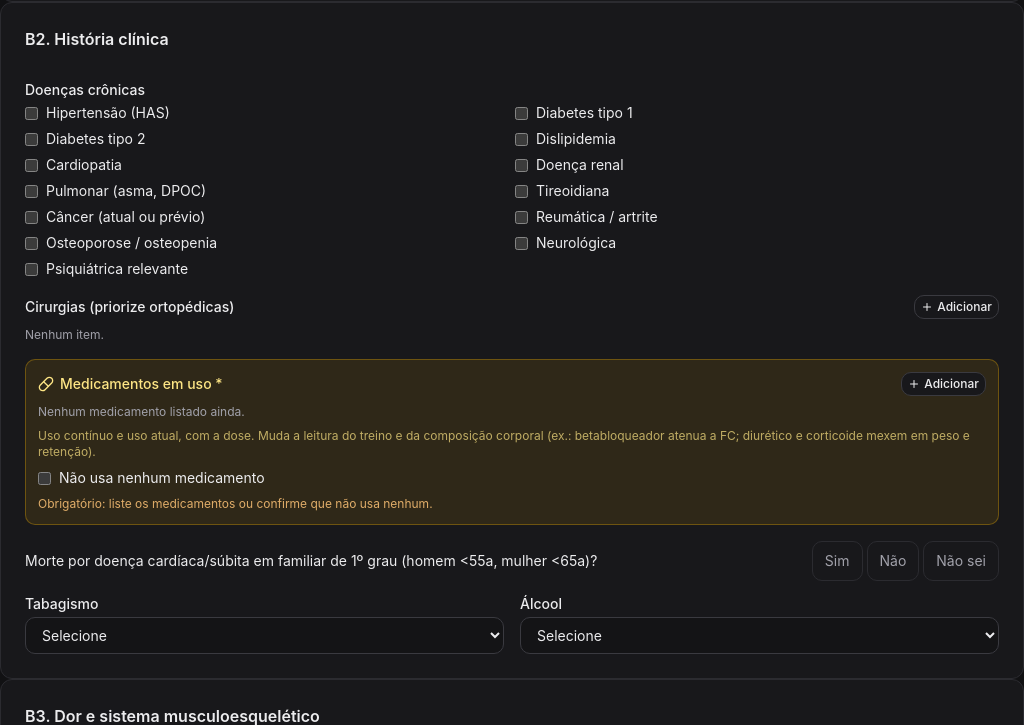
Test: medicamentos em uso — pergunta obrigatória › remover o último medicamento volta a cobrar a resposta
(page scrolled)
Click the button "Adicionar" in the row of "Medicamentos em uso *". click: [944, 384]
box: [901,372,986,396]
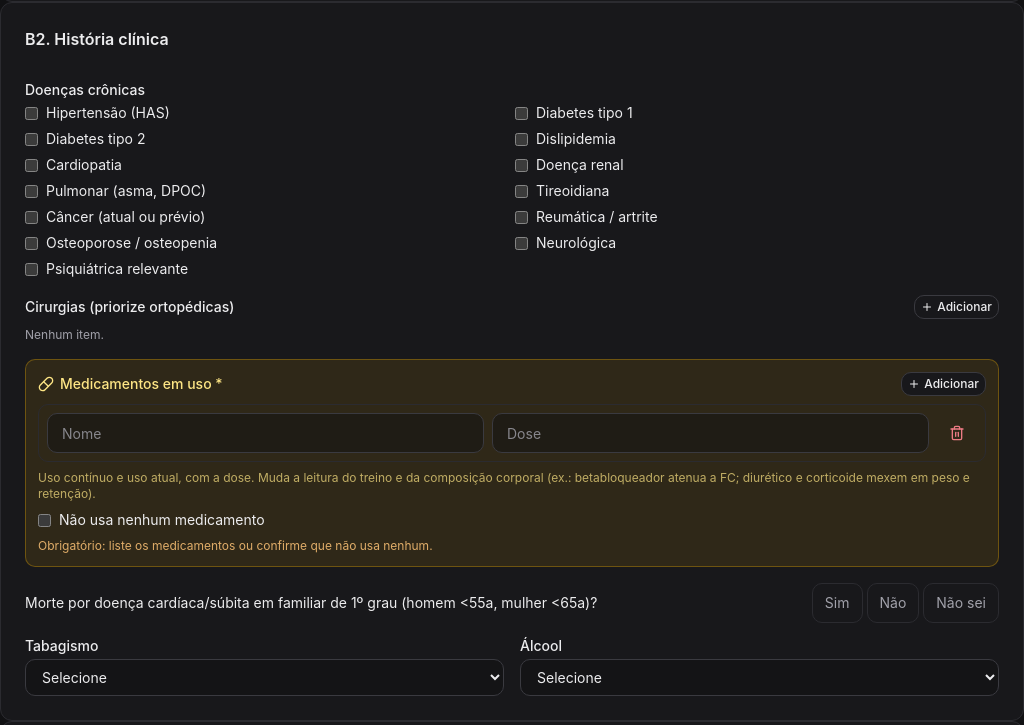
Type "losartana" into the field named "Medicamento 1: nome". click: [266, 433]
box: [47,413,484,453]
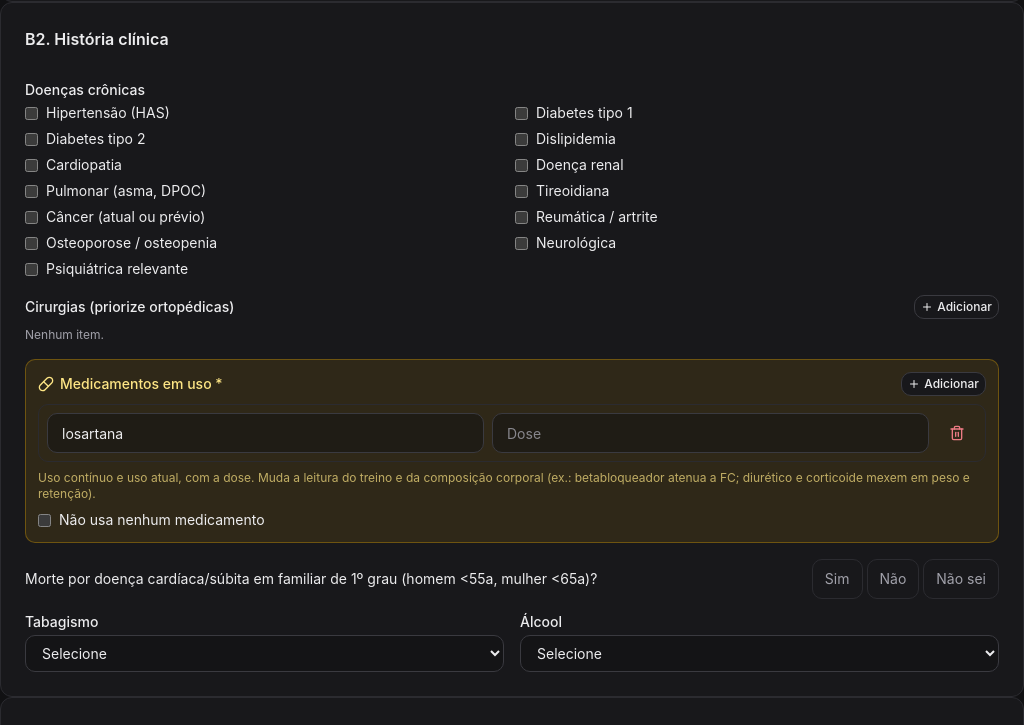
Click the button named "Remover item 1". click: [957, 433]
box: [937,413,977,453]
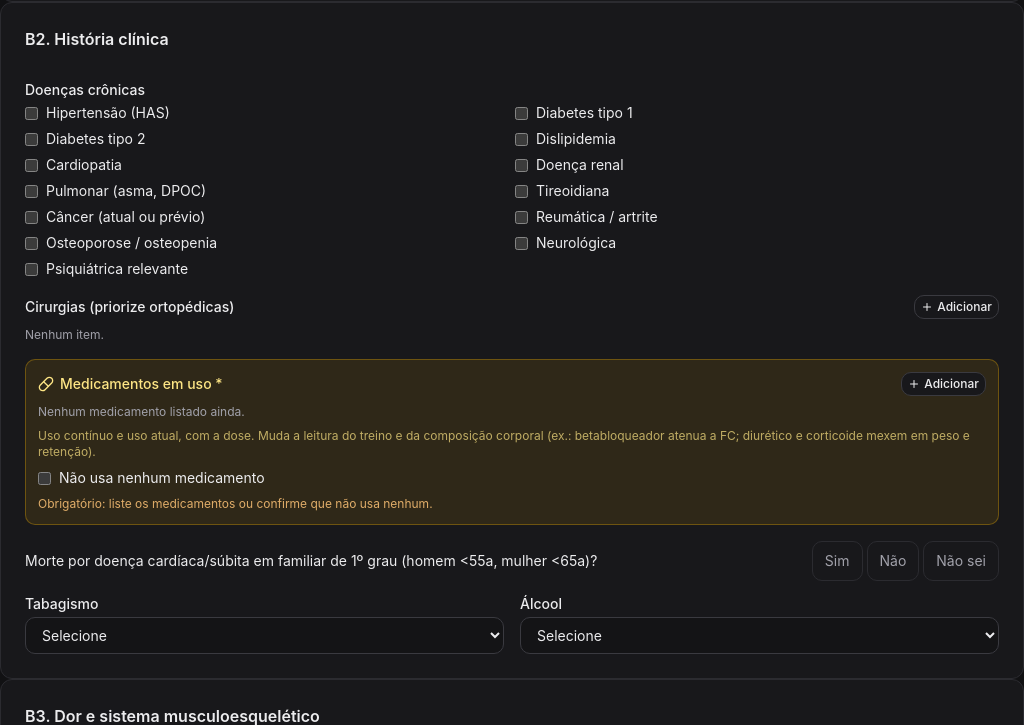
expect the checkbox labelled "Não usa nenhum medicamento" is not checked: met, box [38,472,51,484]
expect the text "Obrigatório: liste os medicamentos ou confirme que não usa nenhum." is shown: met, box [38,496,433,511]
